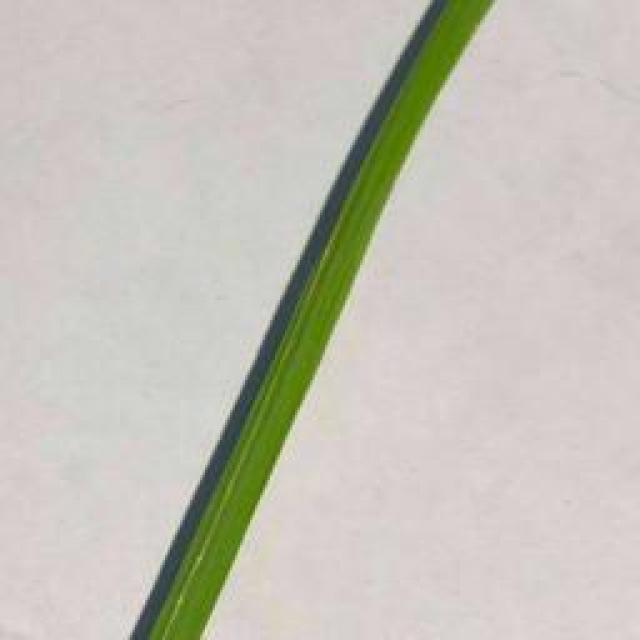Healthy-Plant: (144, 0, 492, 640)
